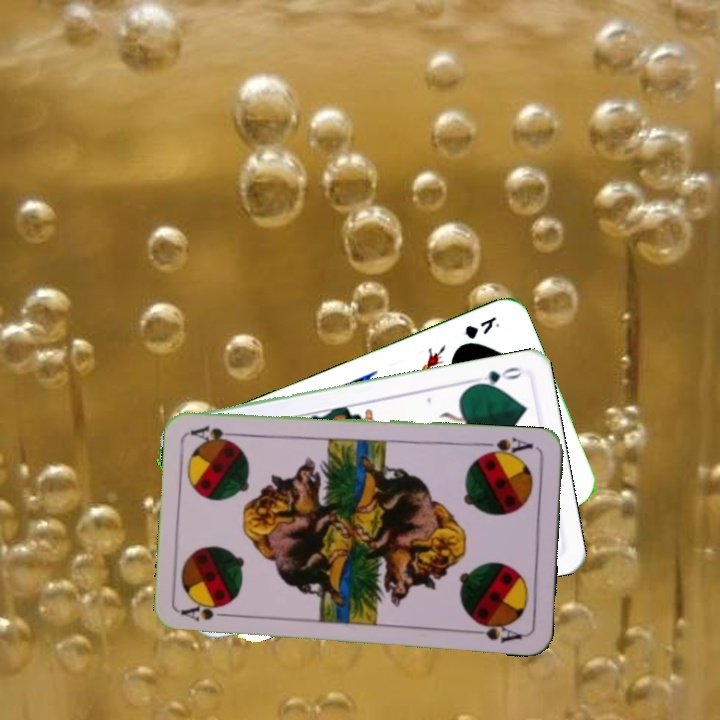GK: (461, 312, 503, 342)
GO: (467, 363, 524, 390)
SA: (478, 433, 535, 461), (178, 601, 237, 624)
